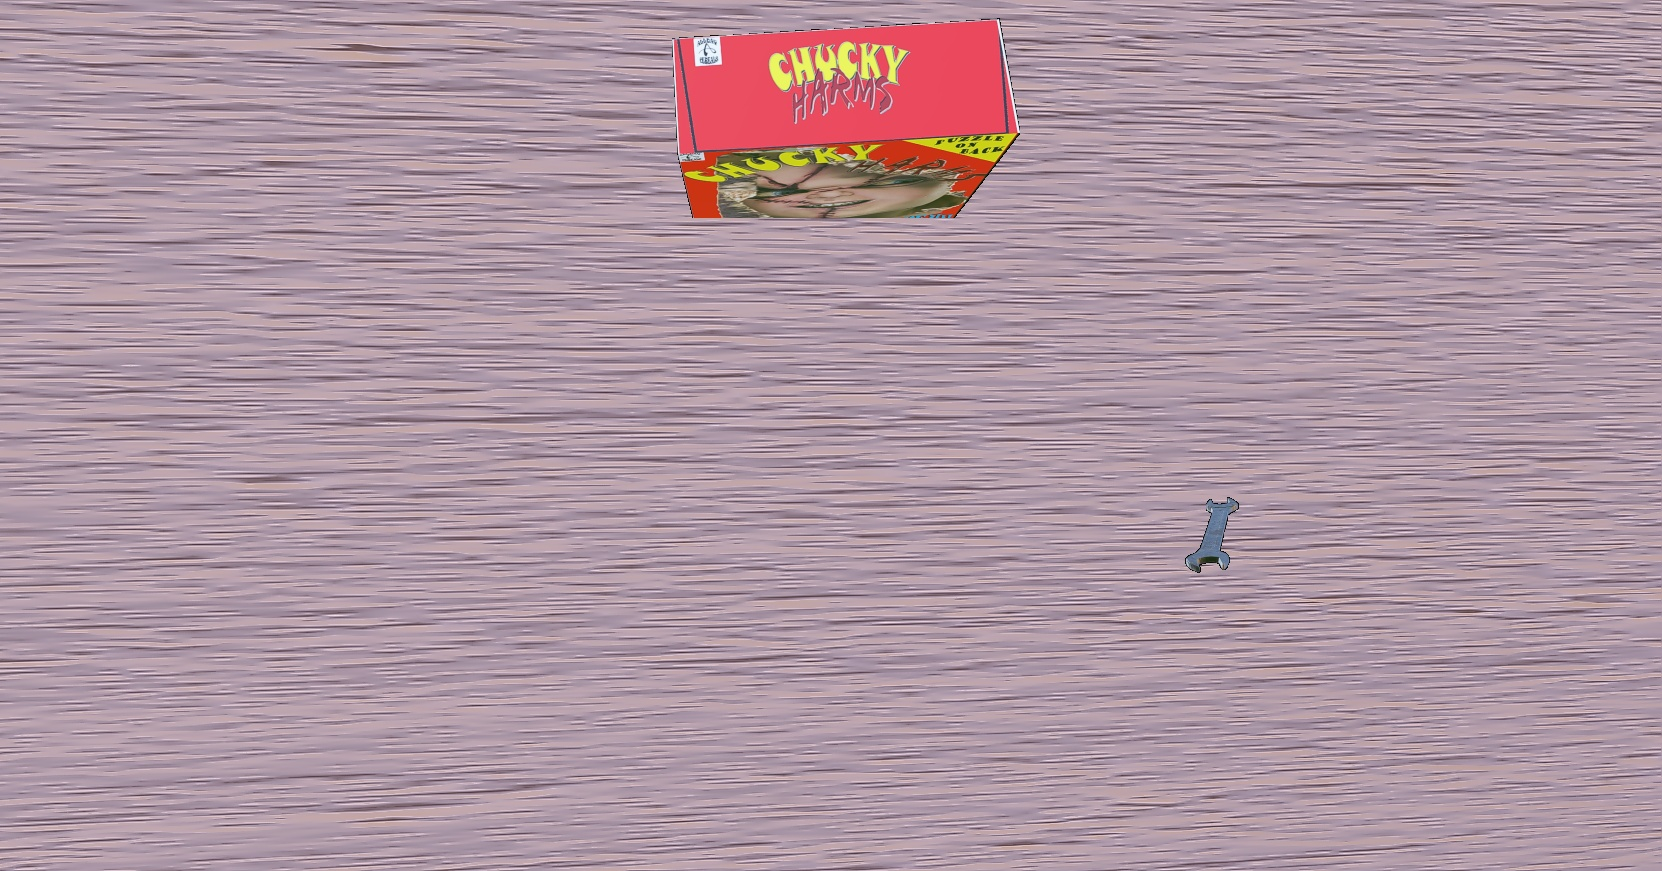caja: (671, 18, 1021, 218)
llave: (1185, 497, 1239, 573)
